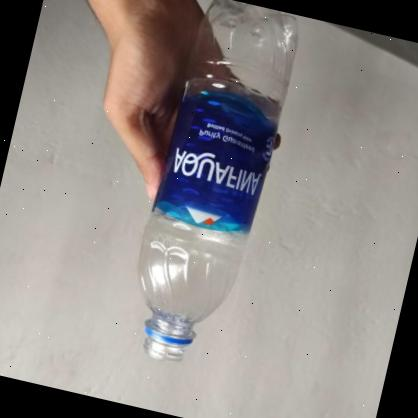bottle: (111, 0, 311, 378)
label: (148, 78, 289, 240)
